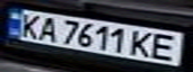1: (90, 22, 112, 51), (109, 25, 130, 54)
6: (75, 20, 96, 48)
7: (57, 17, 81, 46)
A: (33, 15, 60, 43)
E: (148, 32, 184, 62)
K: (127, 28, 160, 58), (12, 10, 45, 39)
